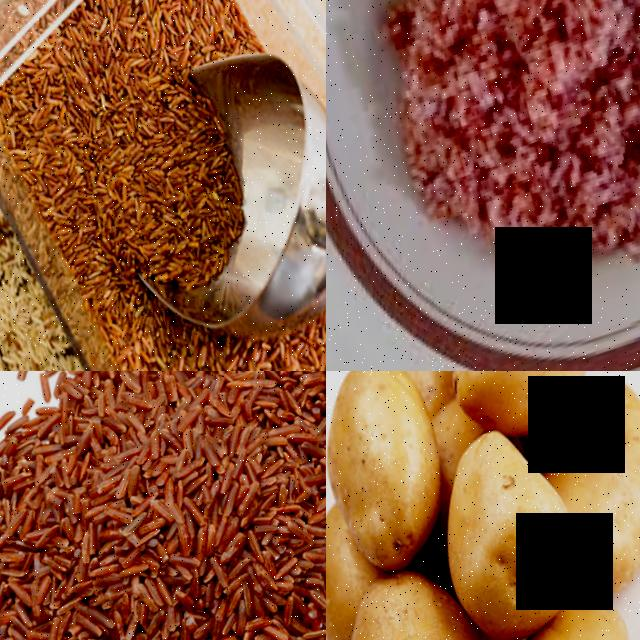potato: (415, 421, 620, 640), (326, 371, 491, 586), (517, 371, 640, 610), (406, 371, 621, 449), (326, 565, 539, 640)
red rice: (0, 371, 326, 640), (0, 34, 172, 278), (90, 73, 277, 276), (77, 0, 246, 96)
